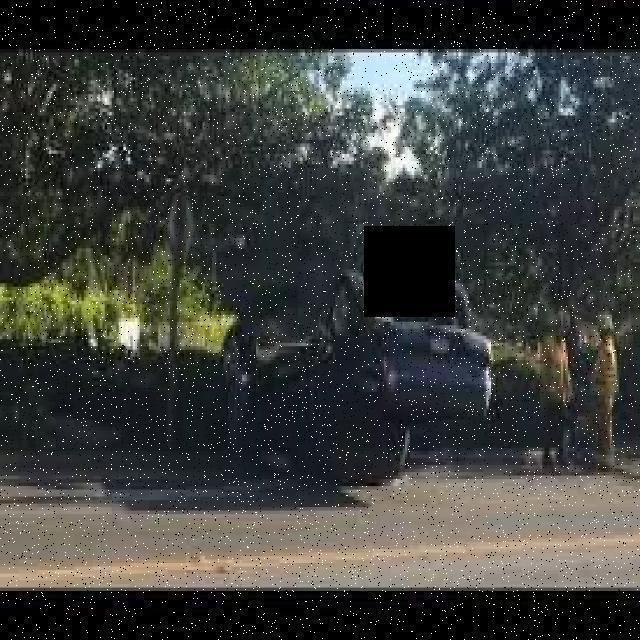accident: (217, 270, 497, 492)
